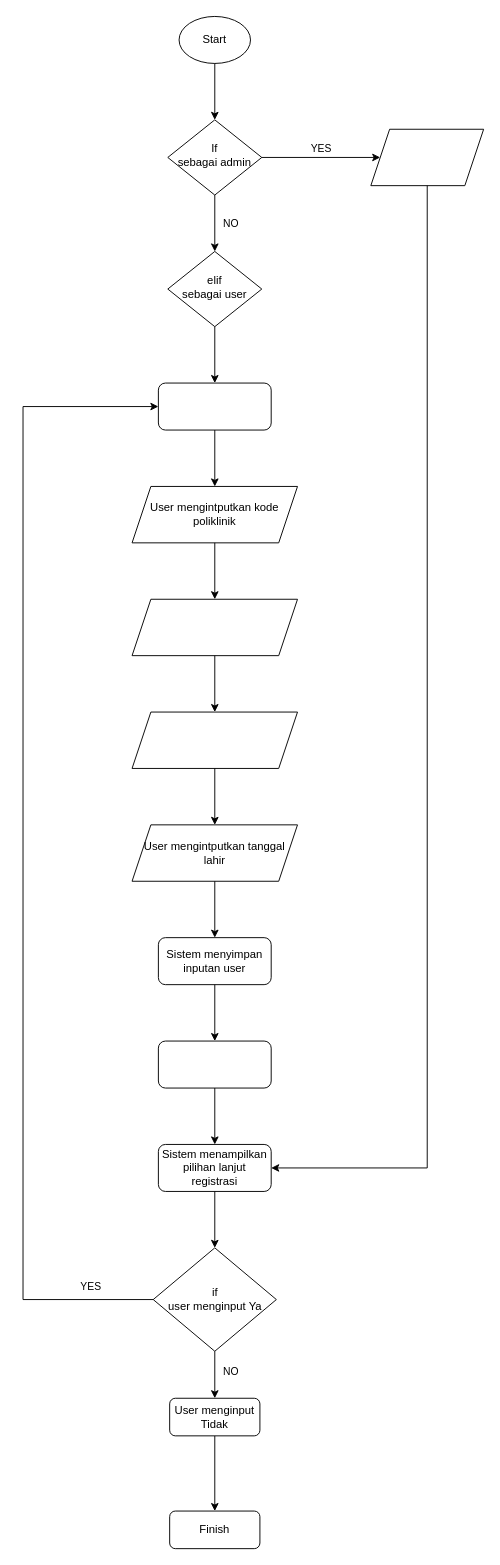
Image size: 500x1565. Some labels were removed from this diagram. Here are the shapes that lost their labels. From the top down, the centre of each, then its label:
At (x=427, y=157): "Input password".
At (x=214, y=406): "Sistem menampilkan pilihan poliklinik".
At (x=214, y=627): "User mengintputkan nama".
At (x=214, y=739): "User mengintputkan nomor rekam medis".
At (x=214, y=1064): "Sistem menampilkan no antrian dan data inputan user".
